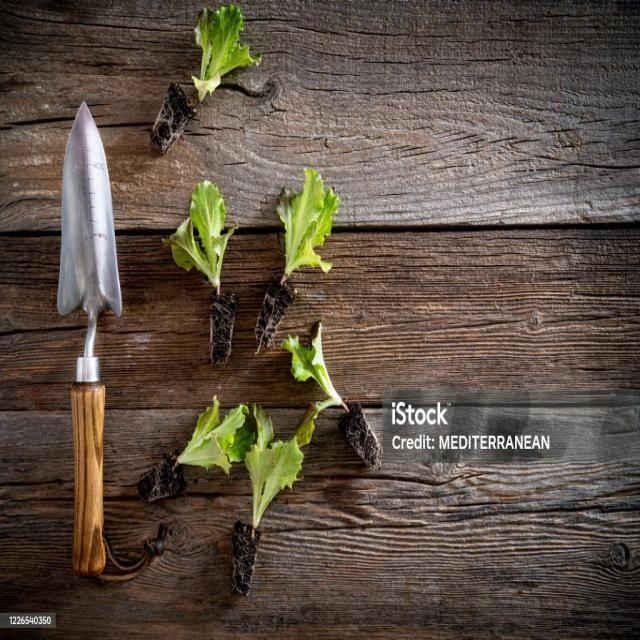Lettuce-Not-Ready-to-Harvest: (281, 322, 348, 447), (165, 180, 238, 294), (245, 405, 304, 528), (276, 169, 340, 282), (192, 4, 261, 101), (178, 396, 256, 473)
